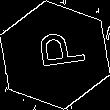P_W: (25, 33, 85, 77)
